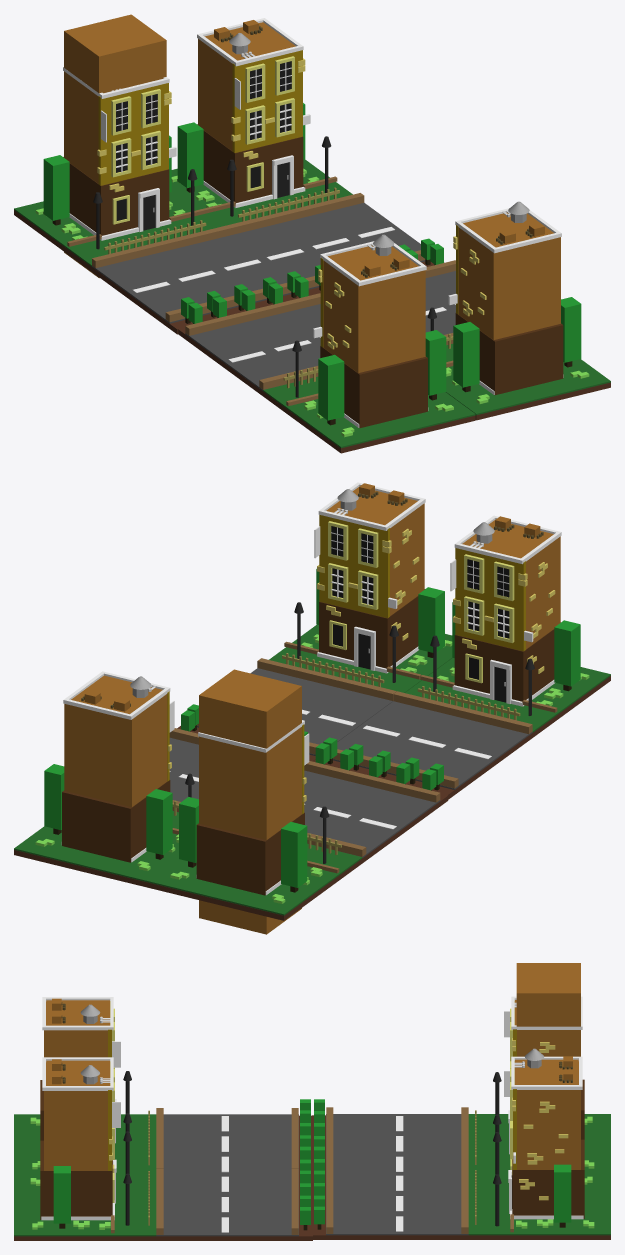
File: colony.glb
3 views of the same model, one above another, from view 1: azimuth 30°, elevation 25°; view 2: azimuth 150°, elevation 25°; view 3: azimuth 270°, elevation 25° (orthographic). The views are drawn at different scales.
Visible parts, largest first — view 1: Cube.116_142, Cube.290_355, Cube.232_284, Cube.119_145, Cube.177_216, Cube.293_358, Cube.236_288, Cube.294_359, Cube.292_357, Cube.120_146, Cube.178_217, Cube.234_286 (+26 smaller); view 2: Cube.116_142, Cube.174_213, Cube.293_358, Cube.119_145, Cube.178_217, Cube.120_146, Cube.118_144, Cube.235_287, Cube.294_359, Cube.236_288, Cube.311_380, Cube.253_309 (+28 smaller); view 3: Cube.235_287, Cube.177_216, Cube.293_358, Cube.119_145, Cube.116_142, Cube.232_284, Cube.234_286, Cube.176_215, Cube.174_213, Cube.118_144, Cube.292_357, Cube.236_288 (+22 smaller).
Part boxes in pixels (left/top/right/bottom): Cube.116_142: left=64, top=14, right=166, bottom=278; Cube.290_355: left=323, top=260, right=425, bottom=372; Cube.232_284: left=458, top=227, right=560, bottom=340; Cube.119_145: left=92, top=235, right=291, bottom=323; Cube.177_216: left=231, top=202, right=425, bottom=289; Cube.293_358: left=185, top=304, right=320, bottom=390; Cube.236_288: left=455, top=313, right=563, bottom=395; Cube.294_359: left=320, top=346, right=427, bottom=427; Cube.292_357: left=263, top=376, right=475, bottom=448; Cube.120_146: left=63, top=157, right=169, bottom=235; Cube.178_217: left=197, top=124, right=303, bottom=202; Cube.234_286: left=446, top=344, right=610, bottom=415; Cube.116_142: left=199, top=669, right=301, bottom=934; Cube.174_213: left=64, top=694, right=167, bottom=807; Cube.293_358: left=333, top=701, right=532, bottom=789; Cube.119_145: left=304, top=770, right=440, bottom=857; Cube.178_217: left=62, top=780, right=170, bottom=862; Cube.120_146: left=196, top=812, right=304, bottom=895; Cube.118_144: left=148, top=843, right=362, bottom=915; Cube.235_287: left=197, top=668, right=392, bottom=755; Cube.294_359: left=454, top=629, right=554, bottom=701; Cube.236_288: left=319, top=589, right=424, bottom=668; Cube.311_380: left=455, top=548, right=525, bottom=651; Cube.253_309: left=319, top=515, right=389, bottom=618; Cube.235_287: left=156, top=1174, right=298, bottom=1236; Cube.177_216: left=326, top=1174, right=468, bottom=1235; Cube.293_358: left=163, top=1114, right=298, bottom=1174; Cube.119_145: left=326, top=1114, right=461, bottom=1173; Cube.116_142: left=516, top=963, right=580, bottom=1056; Cube.232_284: left=44, top=1062, right=107, bottom=1170; Cube.234_286: left=14, top=1174, right=156, bottom=1236; Cube.176_215: left=468, top=1174, right=610, bottom=1235; Cube.174_213: left=517, top=1061, right=580, bottom=1169; Cube.118_144: left=468, top=1114, right=610, bottom=1173; Cube.292_357: left=14, top=1114, right=156, bottom=1174; Cube.236_288: left=40, top=1140, right=112, bottom=1219.
Bounding box in the file's own units: 16.08 × 12.58 × 33.55.
